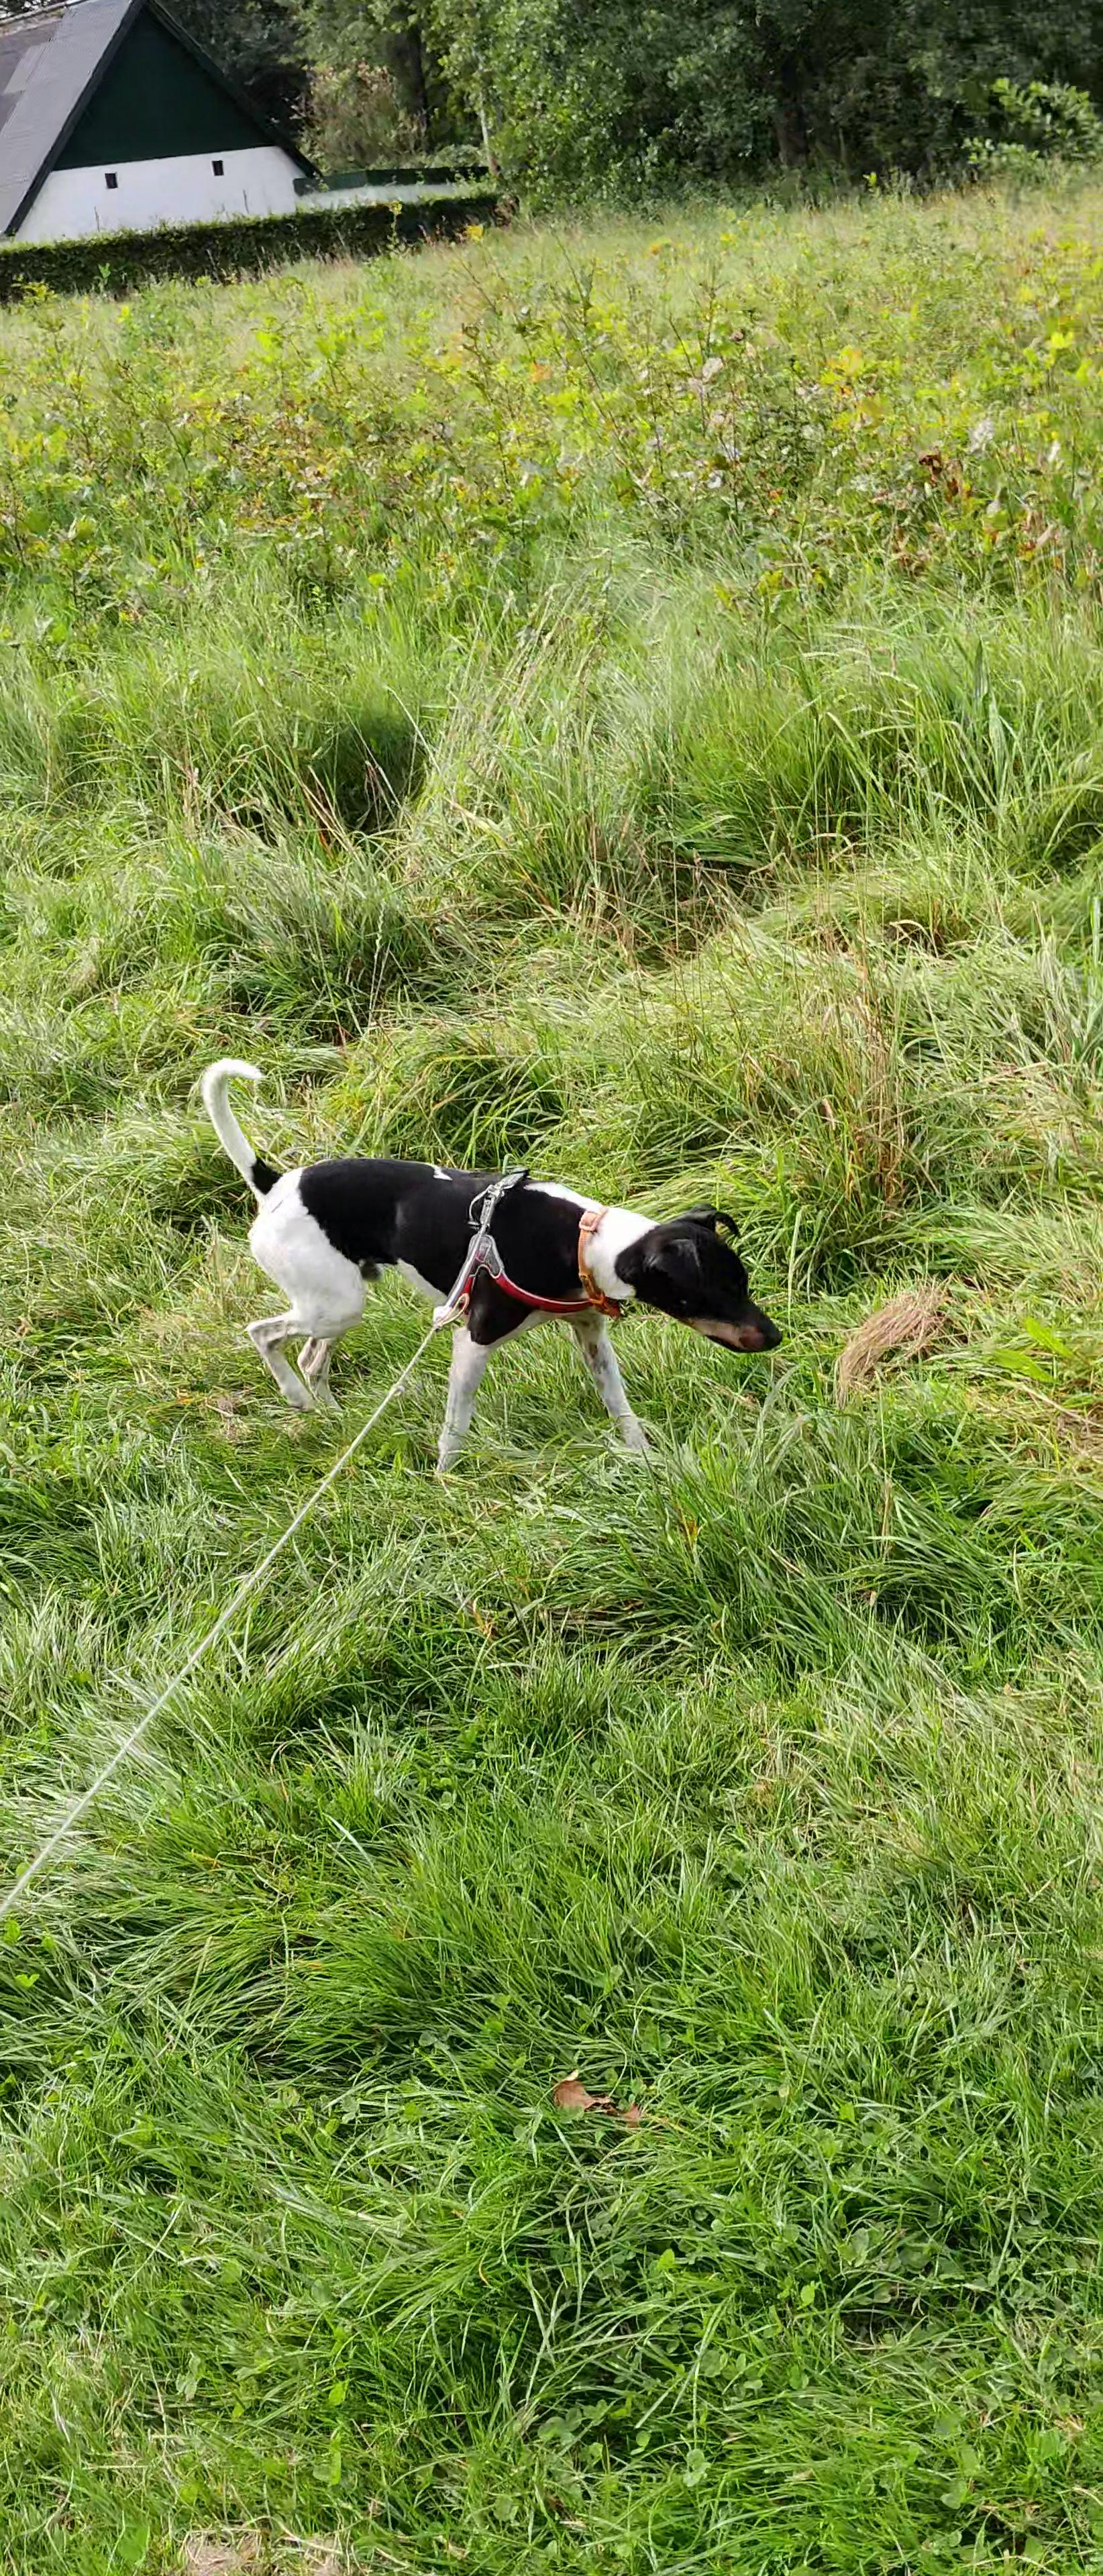Dog: (186, 1046, 792, 1497)
